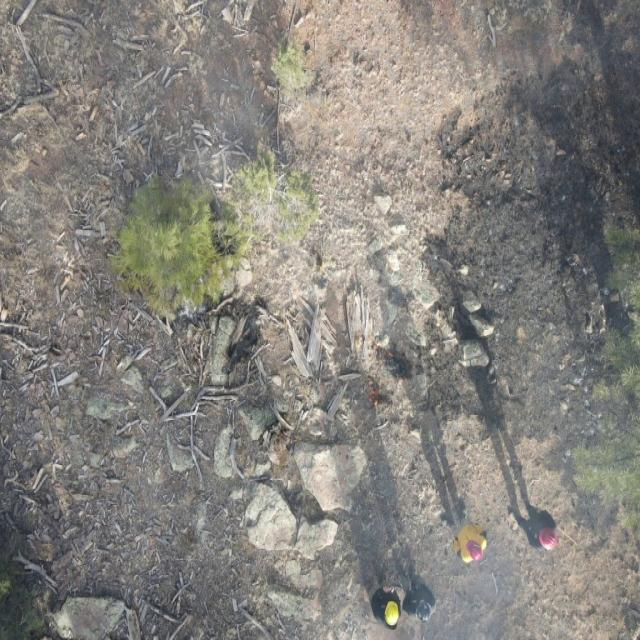fire: (360, 369, 384, 408), (369, 341, 396, 361)
smoke: (356, 496, 523, 640), (104, 75, 259, 181)
